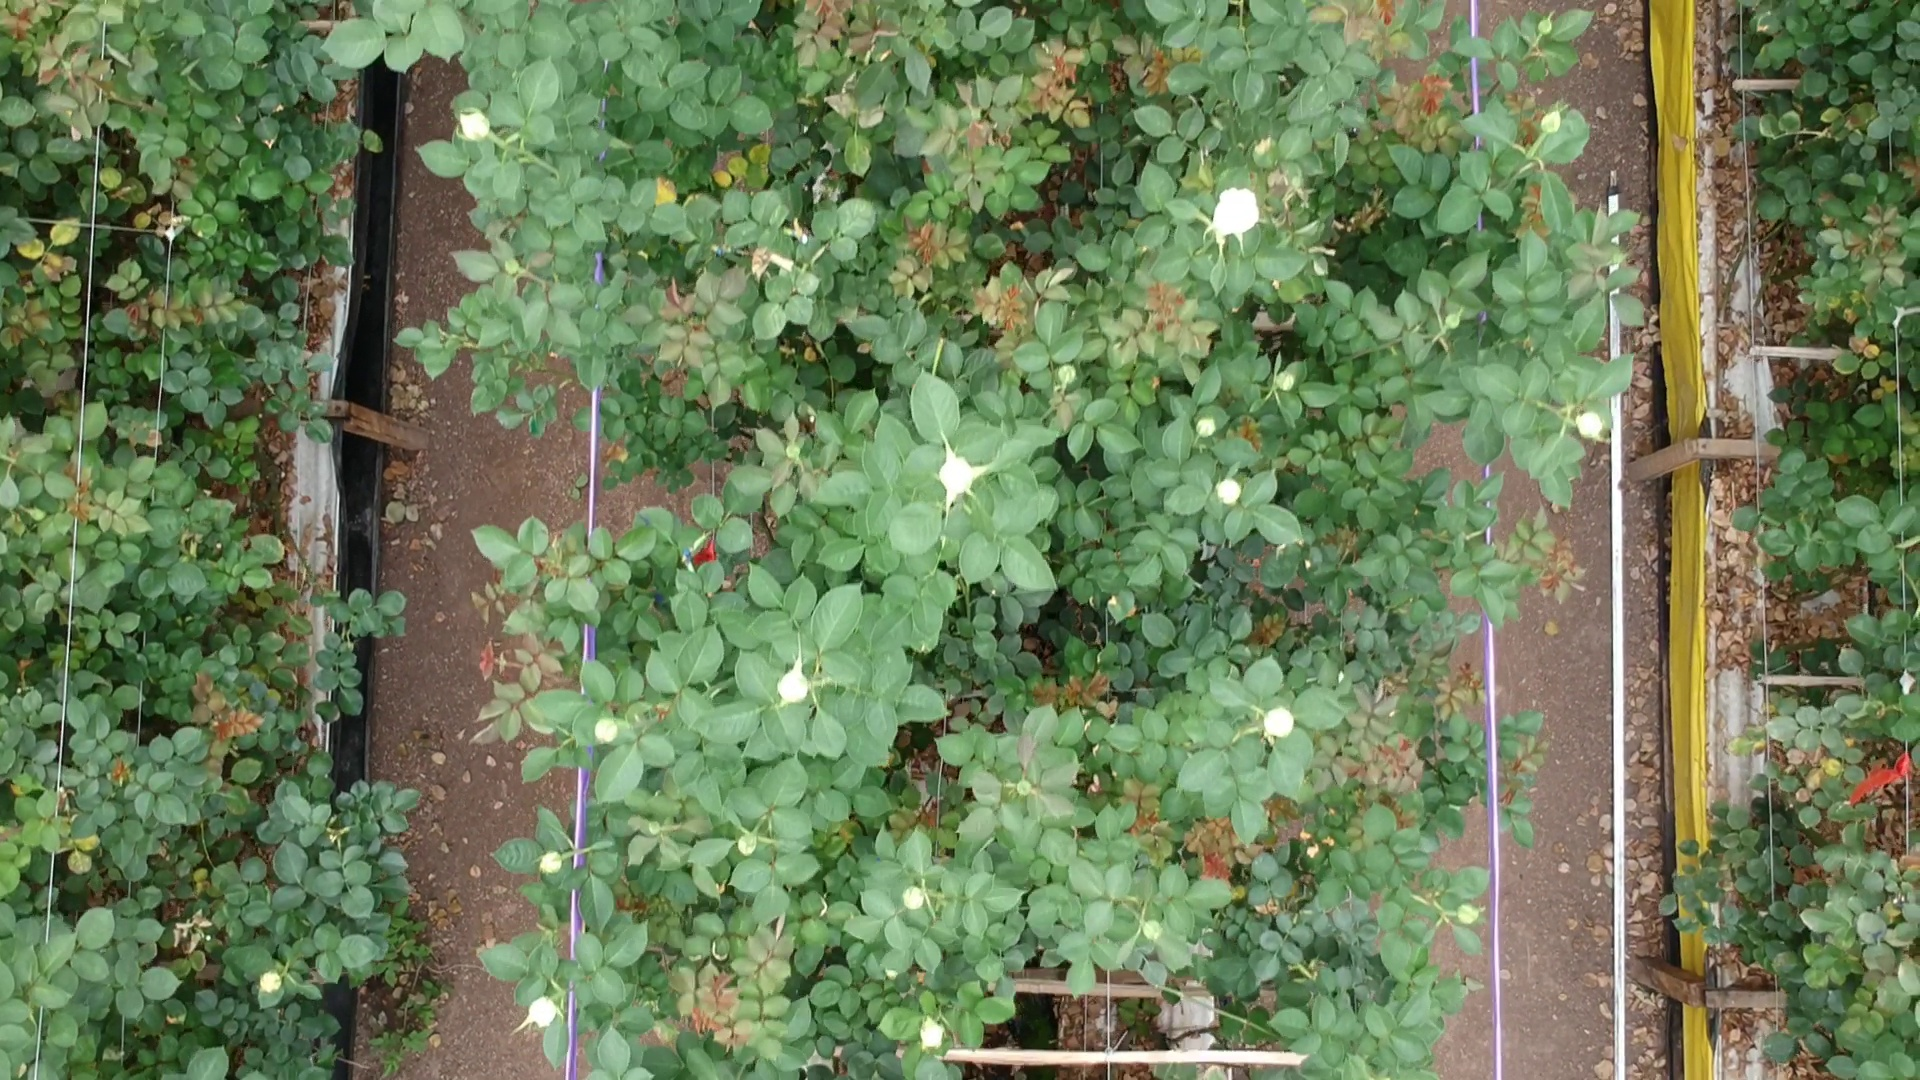P2_1: (1185, 803, 1247, 891), (1038, 663, 1120, 713)
P4: (796, 0, 868, 61)
P5: (473, 233, 560, 302), (1425, 894, 1501, 964), (754, 414, 816, 495)
P5_1: (1509, 88, 1584, 179)
P6: (748, 636, 852, 742), (502, 957, 611, 1048), (512, 803, 607, 894)
